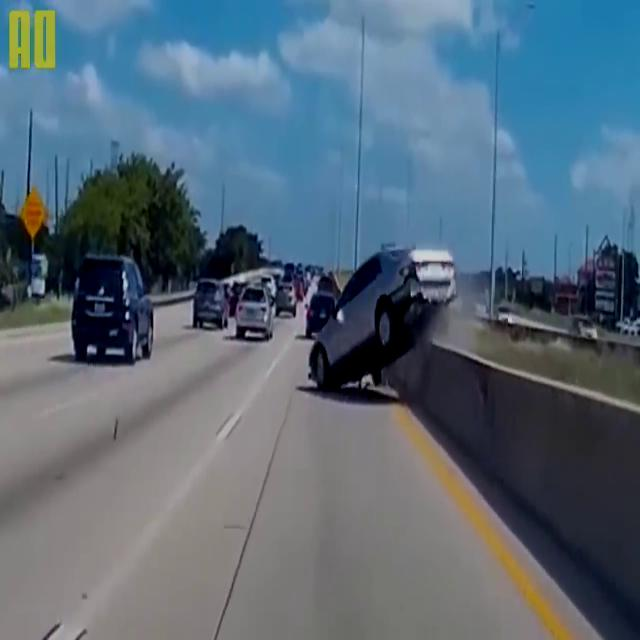accident: (308, 244, 456, 390)
non-accident: (192, 266, 336, 340)
